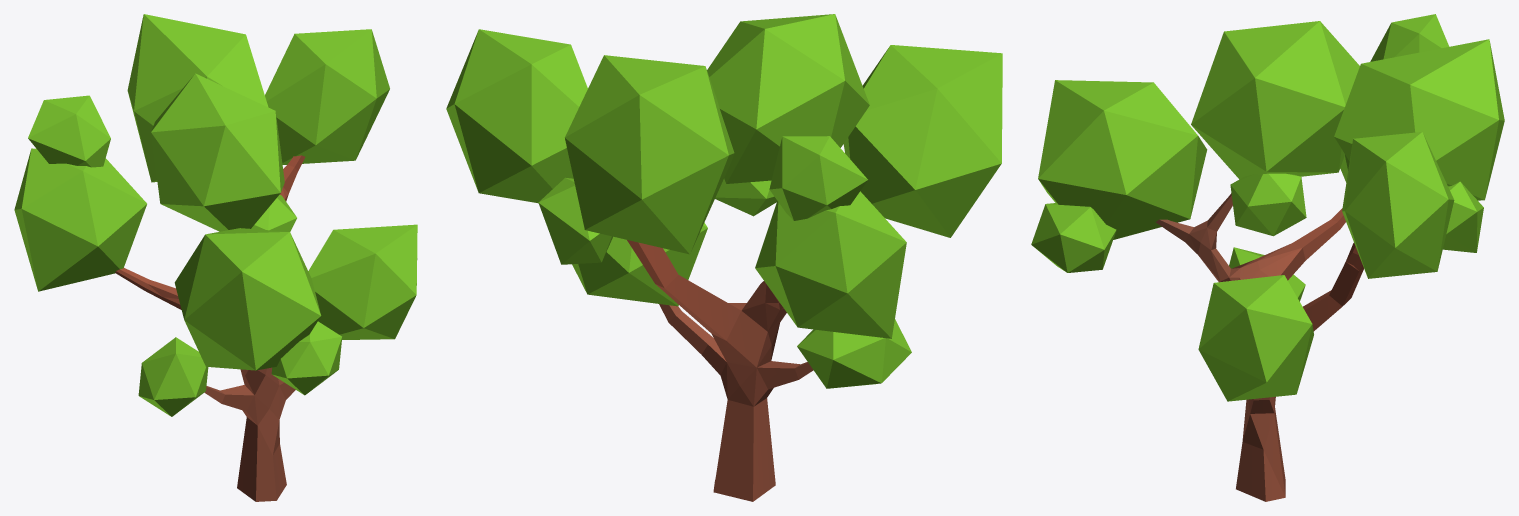
File: cocoaTree.fbx
3 renders of one model, left to right at view 1: azimuth 30°, elevation 25°; view 2: azimuth 150°, elevation 25°; view 3: azimuth 270°, elevation 25°, orthographic. The views are drawn at different scales.
Parts seen in each view (by area): view 1: Tree 1.001; view 2: Tree 1.001; view 3: Tree 1.001.
Boxes of the visible parts, box(x1,y1,x2,y2) form: Tree 1.001: box(14, 14, 417, 501); Tree 1.001: box(446, 14, 1002, 501); Tree 1.001: box(1031, 14, 1504, 501).
Bounding box in the file's own units: 139 × 145 × 139.
